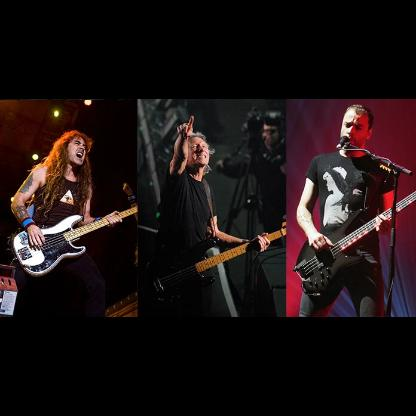bass: (293, 191, 416, 301), (138, 215, 286, 303), (12, 206, 138, 278)
